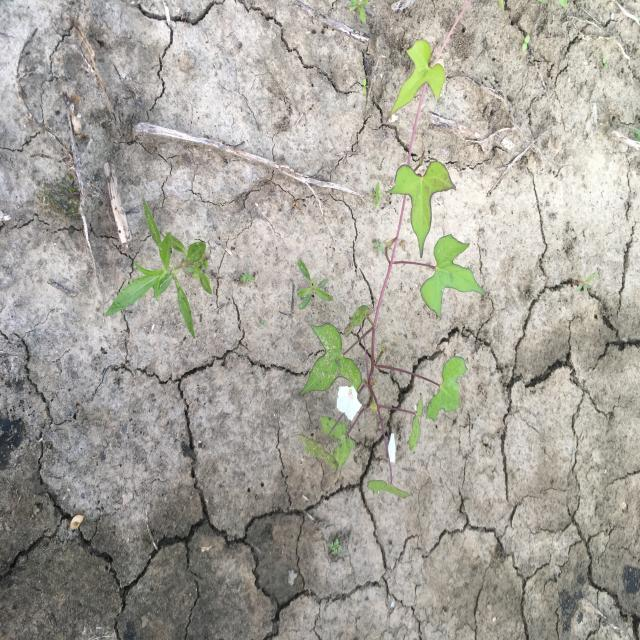Eclipta: (103, 196, 214, 342)
MorningGlory: (298, 2, 488, 500)
Waterhemp: (296, 259, 334, 312)
